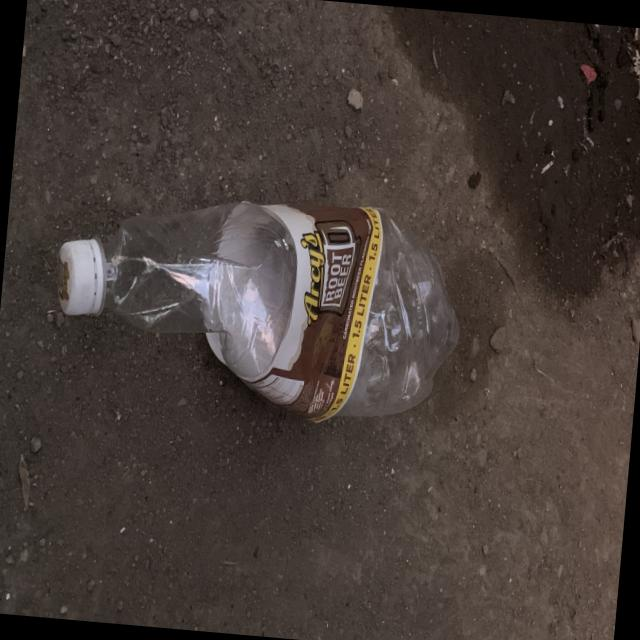Bottle: (58, 200, 458, 421)
